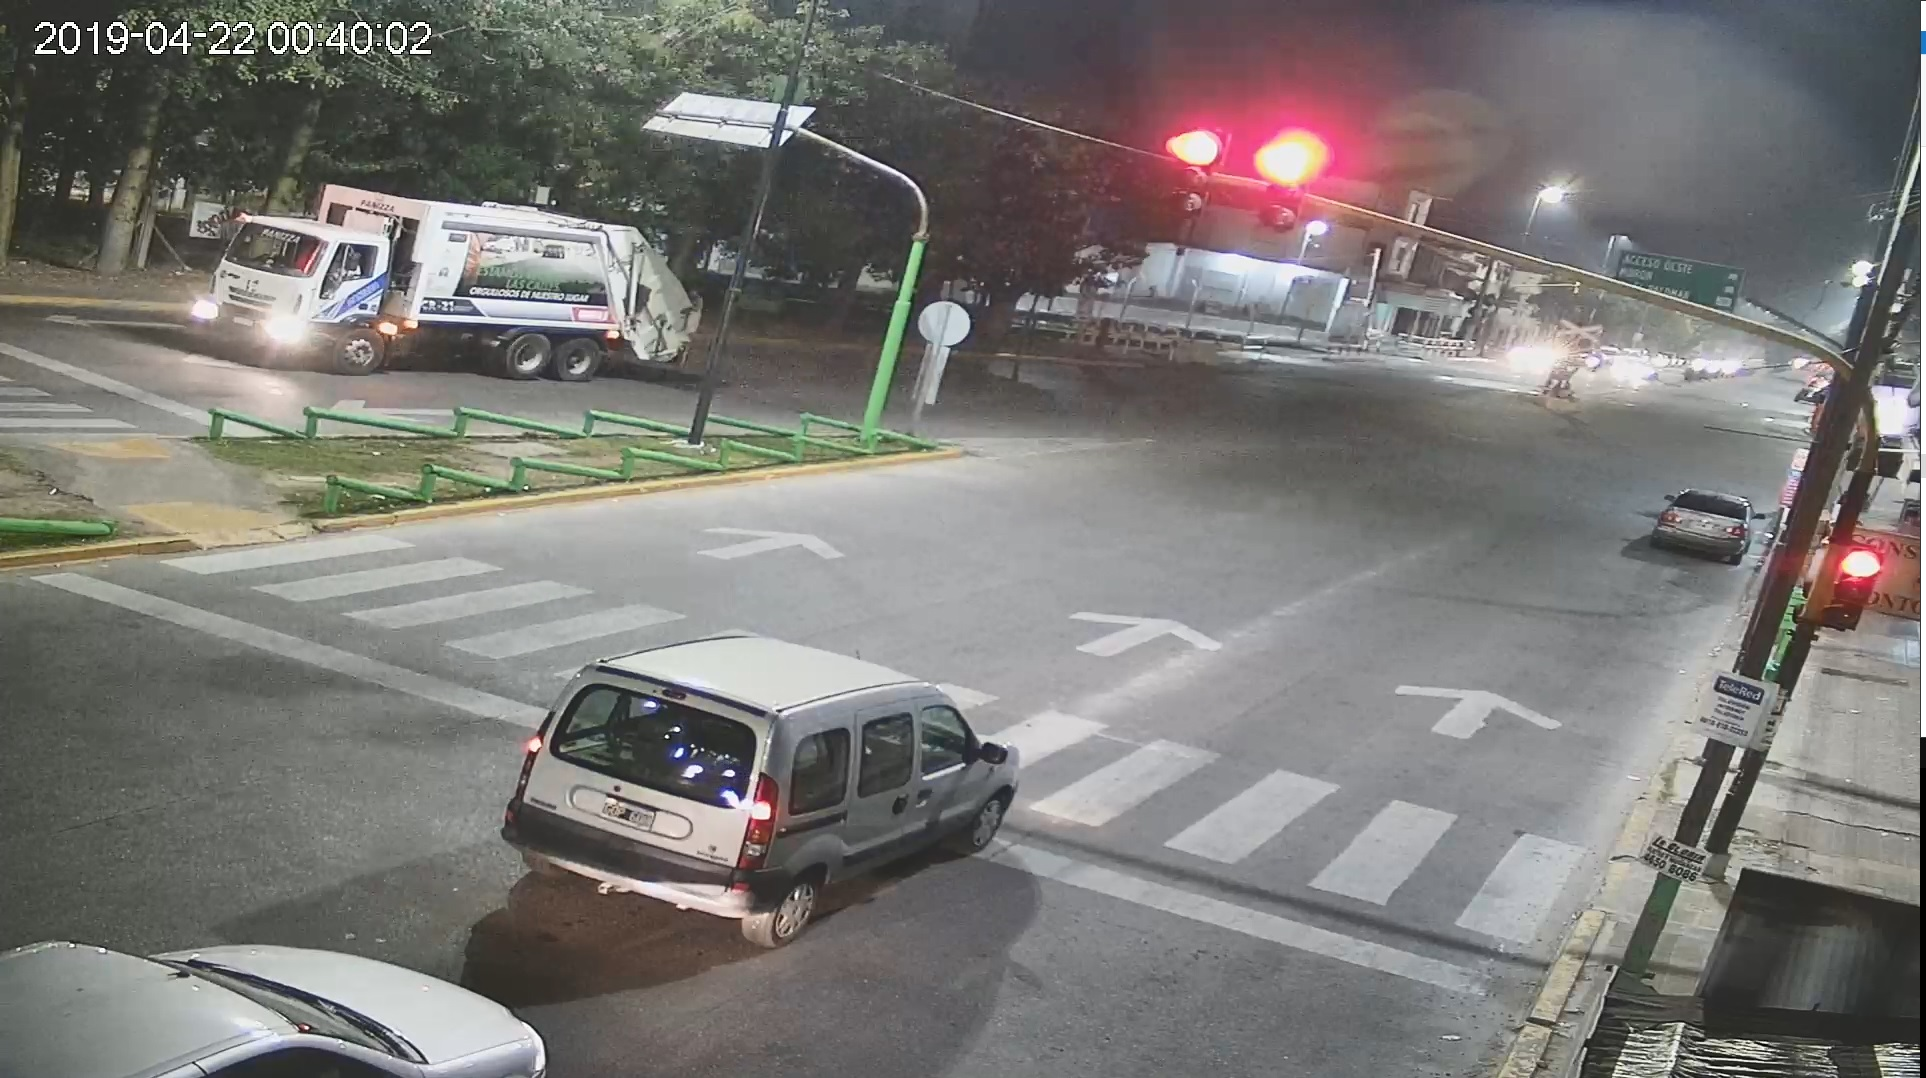car: (501, 631, 1020, 954), (3, 931, 545, 1078), (1646, 483, 1758, 563)
truck: (201, 183, 702, 382)
